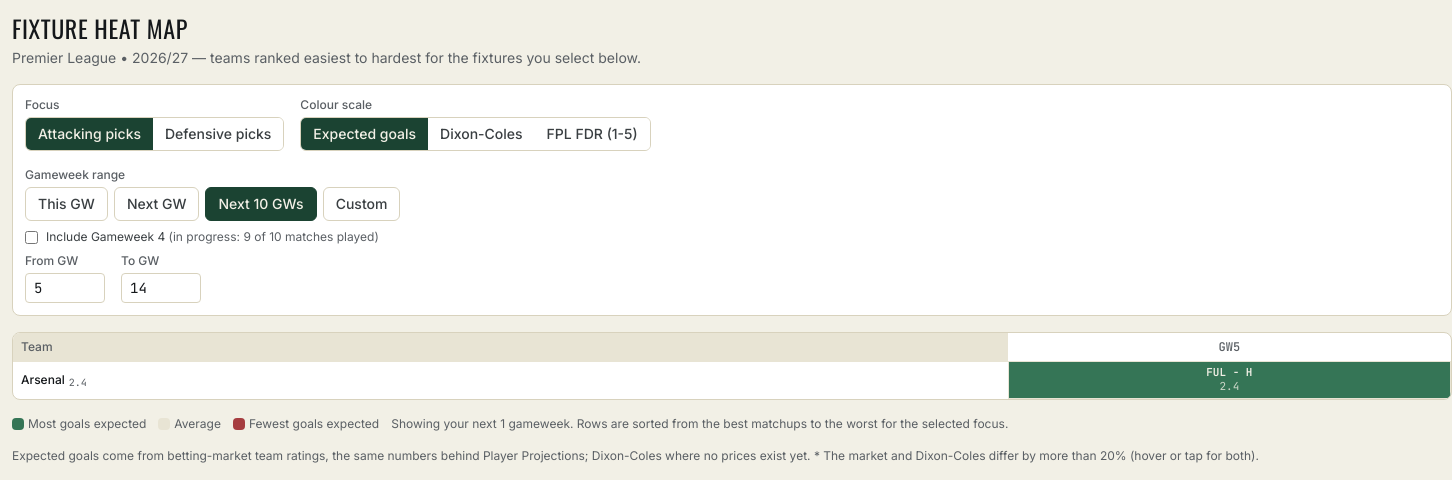
Test case: FantasyFixtures page › skips a partially-played gameweek by default, with a tick box to include it (the shared filter)
The image size is (1452, 480).
Expected: the text "GW4" is not shown
Expected: the column heading "GW5" is shown, [1008, 333, 1450, 362]
Click the checkbox labelled "Include Gameweek 4 (in progress: 9 of 10 matches played)".
click(32, 237)  # box [25, 230, 38, 244]
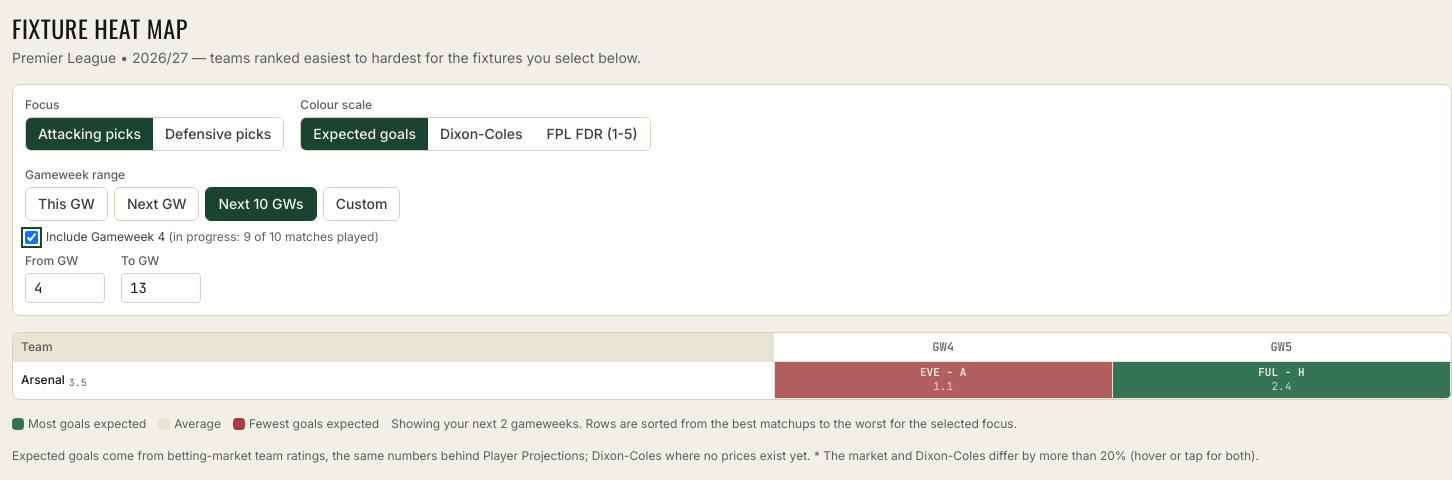
Expected: the column heading "GW4" is shown, [774, 333, 1112, 362]
